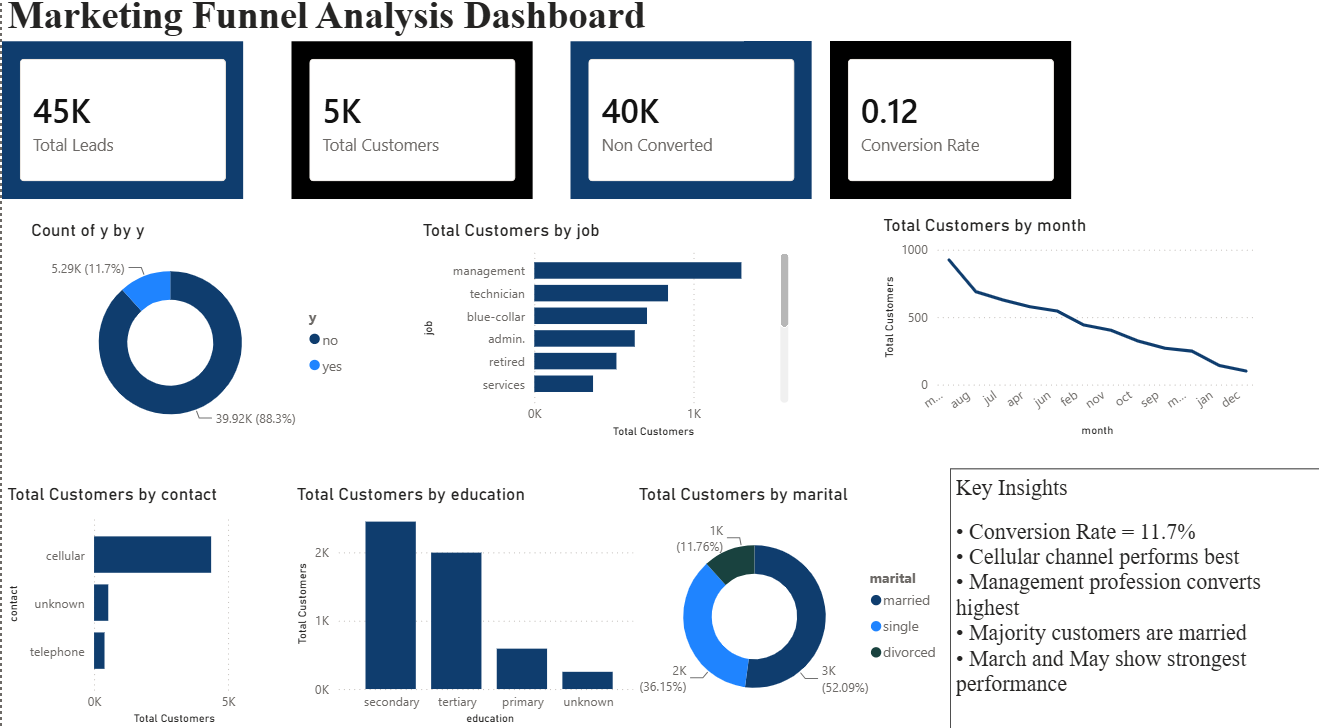

Layout of this report page (visuals, bound fields, positions):
{"tool":"powerbi","page":{"name":"Page 1","canvas":[1280,720],"ordinal":0},"visuals":[{"type":"cardVisual","fields":{"Data":["bank-full.Total Leads"]},"box":[0,52.9,234.3,153.1],"z":0},{"type":"cardVisual","fields":{"Data":["bank-full.Total Customers"]},"box":[281.6,52.9,234.3,153.1],"z":1},{"type":"cardVisual","fields":{"Data":["bank-full.Non Converted"]},"box":[551.8,52.9,234.3,153.1],"z":2},{"type":"cardVisual","fields":{"Data":["bank-full.Conversion Rate"]},"box":[803.2,52.9,234.3,153.1],"z":3},{"type":"donutChart","fields":{"Category":["bank-full.y"],"Y":["CountNonNull(bank-full.y)"]},"box":[22.7,224.9,321.3,219.2],"z":4},{"type":"clusteredBarChart","fields":{"Category":["bank-full.contact"],"Y":["bank-full.Total Customers"]},"box":[0,481.9,257,238.1],"z":5},{"type":"clusteredBarChart","fields":{"Category":["bank-full.job"],"Y":["bank-full.Total Customers"]},"box":[402.5,224.9,364.7,215.4],"z":6},{"type":"clusteredColumnChart","fields":{"Category":["bank-full.education"],"Y":["bank-full.Total Customers"]},"box":[281.6,481.9,343.9,238.1],"z":7},{"type":"lineChart","fields":{"Category":["bank-full.month"],"Y":["bank-full.Total Customers"]},"box":[850.4,221.1,372.3,219.2],"z":8},{"type":"donutChart","fields":{"Category":["bank-full.marital"],"Y":["bank-full.Total Customers"]},"box":[612.3,481.9,308,238.1],"z":9},{"type":"textbox","box":[920.3,466.8,359.1,253.2],"z":10},{"type":"textbox","box":[0,0,720,52.9],"z":11}]}

Visuals, with their boxes in screenshot pixels (x1, y1, x2, y2), scaled from the page's 1280x720 canvas onto the 1319x728 screenshot:
cardVisual - bank-full.Total Leads: detection(0, 53, 241, 208)
cardVisual - bank-full.Total Customers: detection(290, 53, 532, 208)
cardVisual - bank-full.Non Converted: detection(569, 53, 810, 208)
cardVisual - bank-full.Conversion Rate: detection(828, 53, 1069, 208)
donutChart - bank-full.y x CountNonNull(bank-full.y): detection(23, 227, 354, 449)
clusteredBarChart - bank-full.contact x bank-full.Total Customers: detection(0, 487, 265, 727)
clusteredBarChart - bank-full.job x bank-full.Total Customers: detection(415, 227, 791, 445)
clusteredColumnChart - bank-full.education x bank-full.Total Customers: detection(290, 487, 645, 727)
lineChart - bank-full.month x bank-full.Total Customers: detection(876, 224, 1260, 445)
donutChart - bank-full.marital x bank-full.Total Customers: detection(631, 487, 948, 727)
textbox: detection(948, 472, 1318, 727)
textbox: detection(0, 0, 742, 53)
